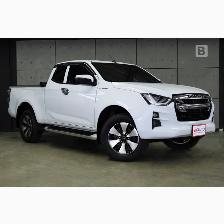NON-EV: (7, 55, 218, 161)
